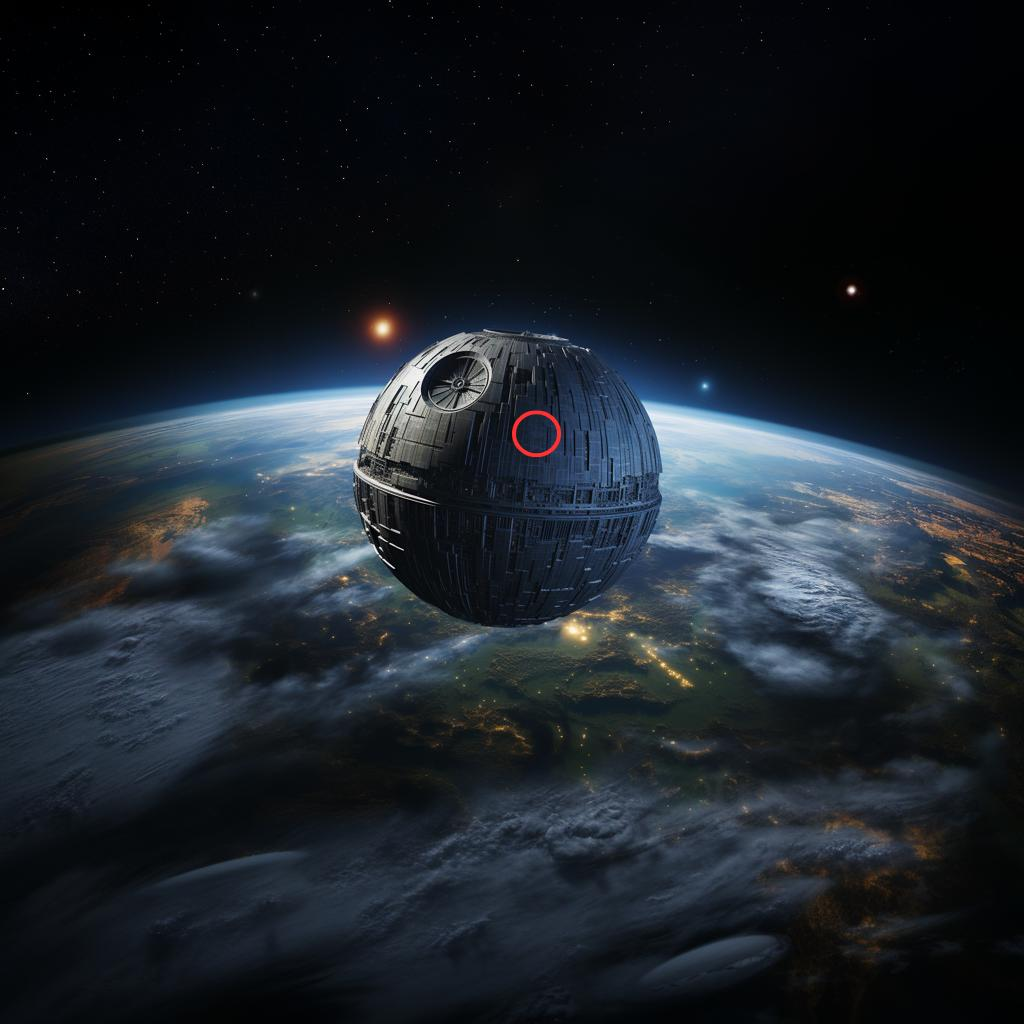Death-star: (354, 330, 661, 624)
